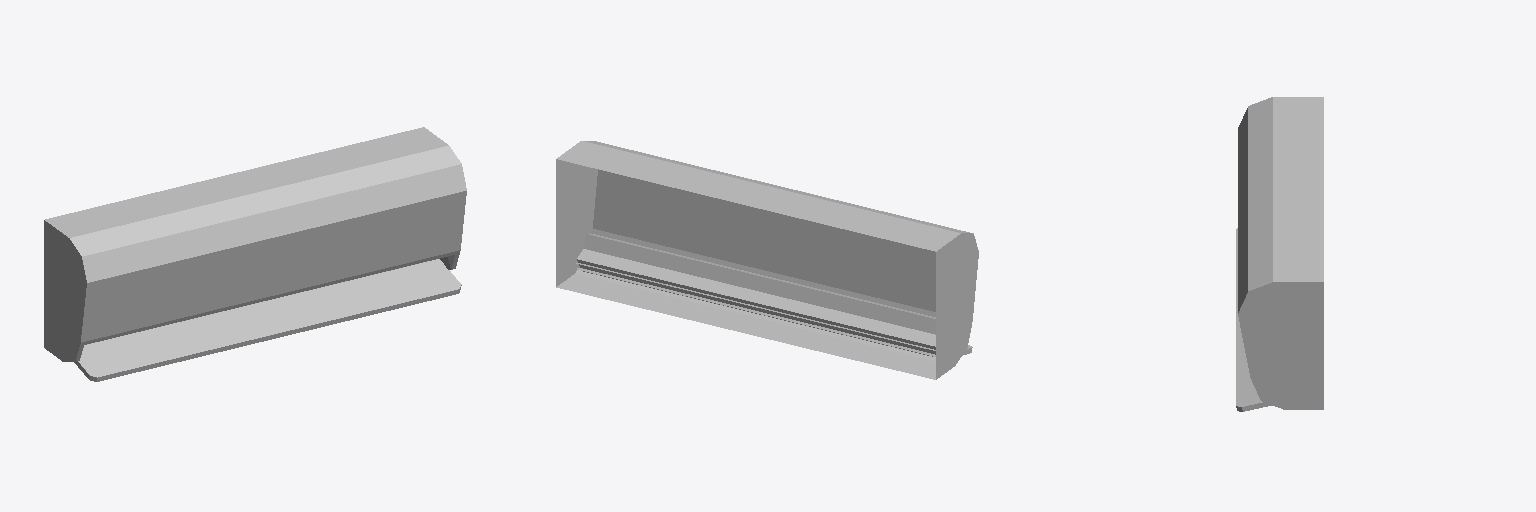
File: SM_Aire_Acondicionado.obj
3 views of the same model, side by side, from view 1: azimuth 30°, elevation 25°; view 2: azimuth 150°, elevation 25°; view 3: azimuth 270°, elevation 25° (orthographic).
Visible parts, largest first — view 1: Aire_Acondicionado; view 2: Aire_Acondicionado; view 3: Aire_Acondicionado.
Boxes of the visible parts, x1,y1,x2,y2 form: Aire_Acondicionado: [44, 127, 466, 381]; Aire_Acondicionado: [556, 141, 978, 379]; Aire_Acondicionado: [1236, 97, 1323, 411].
Size of the model in its own units: 104 by 34.8 by 20.79.